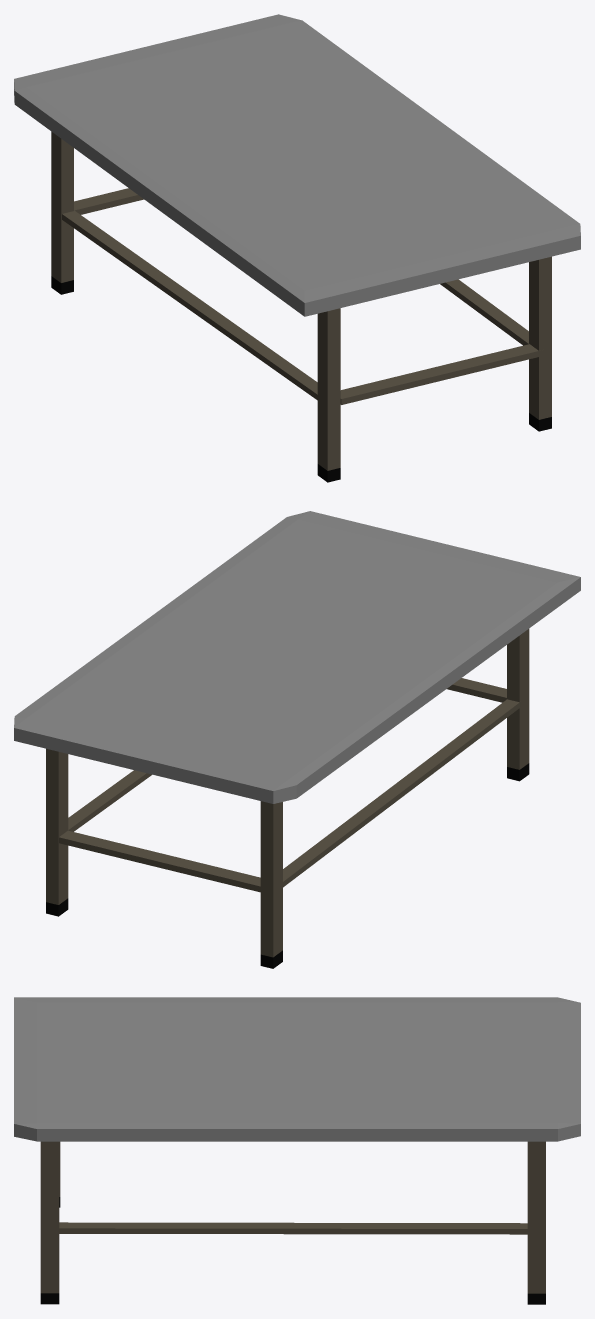
The model's file is mesa_lab.fbx.
3 views of the same model, one above another, from view 1: azimuth 30°, elevation 25°; view 2: azimuth 150°, elevation 25°; view 3: azimuth 270°, elevation 25° (orthographic). The views are drawn at different scales.
Parts seen in each view (by area): view 1: Cube, Cube.003, Cube.006, Cube.007, Cube.005, Cube.008, Cube.001; view 2: Cube, Cube.003, Cube.006, Cube.008, Cube.005, Cube.001, Cube.007; view 3: Cube, Cube.003, Cube.005, Cube.001.
Part boxes in pixels (x1,y1,x2,y2): Cube: [14, 14, 580, 316]; Cube.003: [51, 131, 551, 470]; Cube.006: [62, 210, 319, 401]; Cube.007: [340, 344, 544, 404]; Cube.005: [440, 279, 528, 345]; Cube.008: [74, 188, 143, 214]; Cube.001: [51, 276, 551, 482]; Cube: [14, 511, 580, 803]; Cube.003: [46, 629, 529, 957]; Cube.006: [283, 699, 521, 887]; Cube.008: [59, 830, 260, 892]; Cube.005: [68, 770, 151, 831]; Cube.001: [46, 763, 529, 968]; Cube.007: [447, 678, 506, 702]; Cube: [14, 997, 580, 1141]; Cube.003: [40, 1141, 545, 1293]; Cube.005: [59, 1222, 530, 1234]; Cube.001: [40, 1197, 545, 1304].
Bounding box in the file's own units: 109 × 72.18 × 198.
